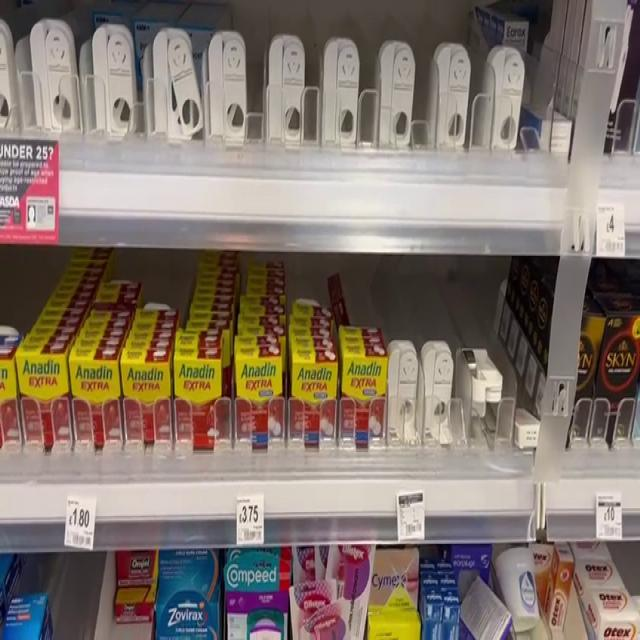Other: (115, 347, 177, 487), (11, 347, 78, 463), (228, 344, 287, 474), (65, 342, 123, 463), (281, 345, 343, 452), (599, 300, 639, 458), (336, 339, 389, 449), (171, 343, 224, 447)
